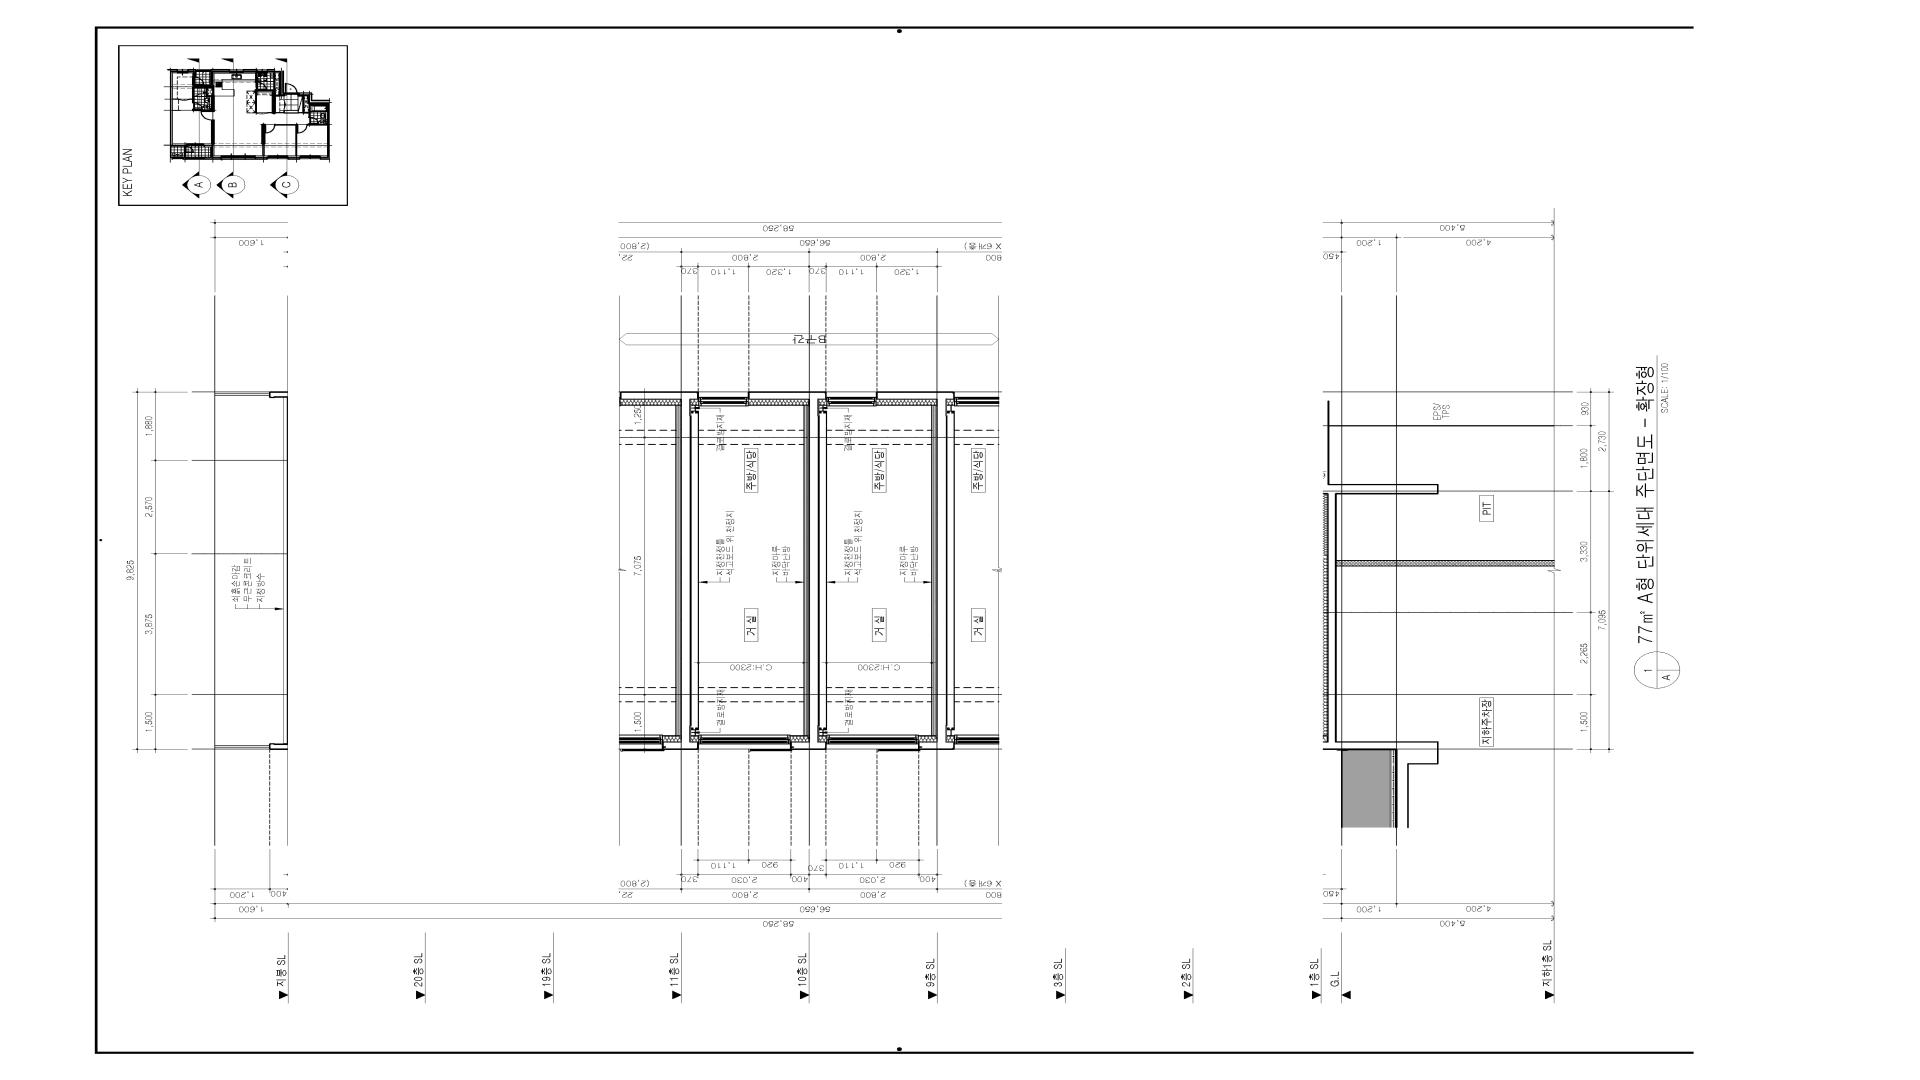wall: (1323, 401, 1439, 828), (877, 392, 955, 750), (749, 392, 827, 750), (621, 392, 699, 750), (1337, 560, 1555, 567)
window: (699, 735, 791, 749), (827, 735, 919, 749), (699, 392, 749, 406), (827, 392, 877, 406)
